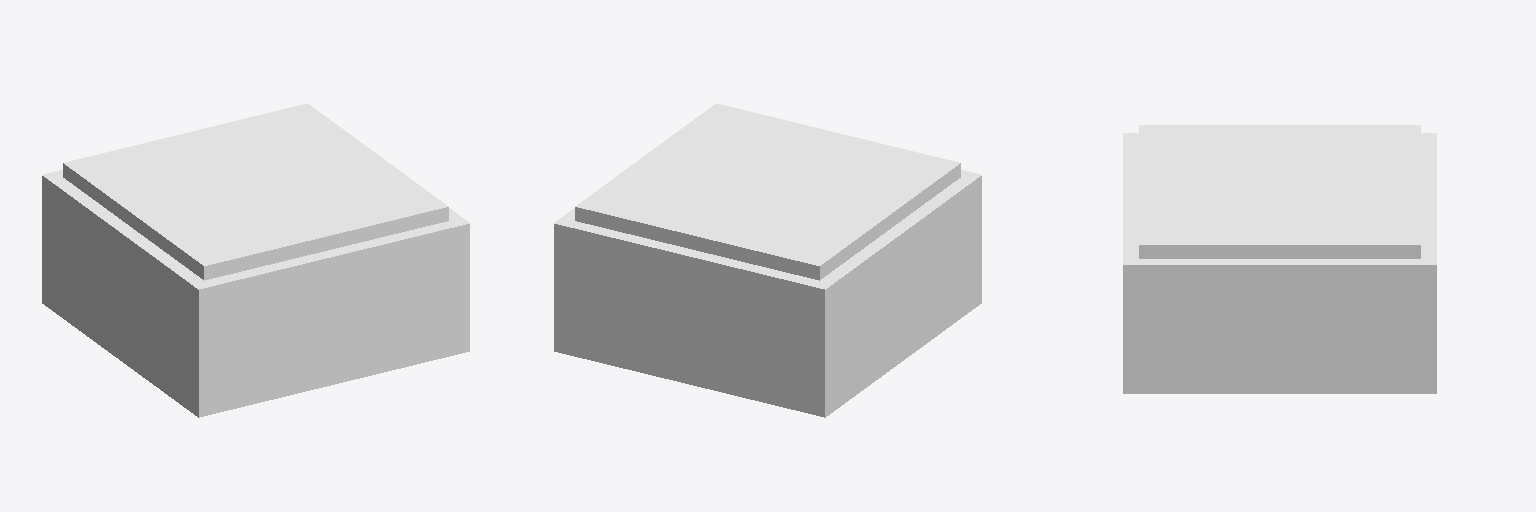
The model's file is room4_tile_trap.obj.
3 views of the same model, side by side, from view 1: azimuth 30°, elevation 25°; view 2: azimuth 150°, elevation 25°; view 3: azimuth 270°, elevation 25° (orthographic).
Visible parts, largest first — view 1: object 1; view 2: object 1; view 3: object 1.
Part boxes in pixels (left/top/right/bottom): object 1: left=42, top=103, right=469, bottom=417; object 1: left=554, top=103, right=981, bottom=417; object 1: left=1123, top=125, right=1436, bottom=393.
Bounding box in the file's own units: 2 × 1 × 2.